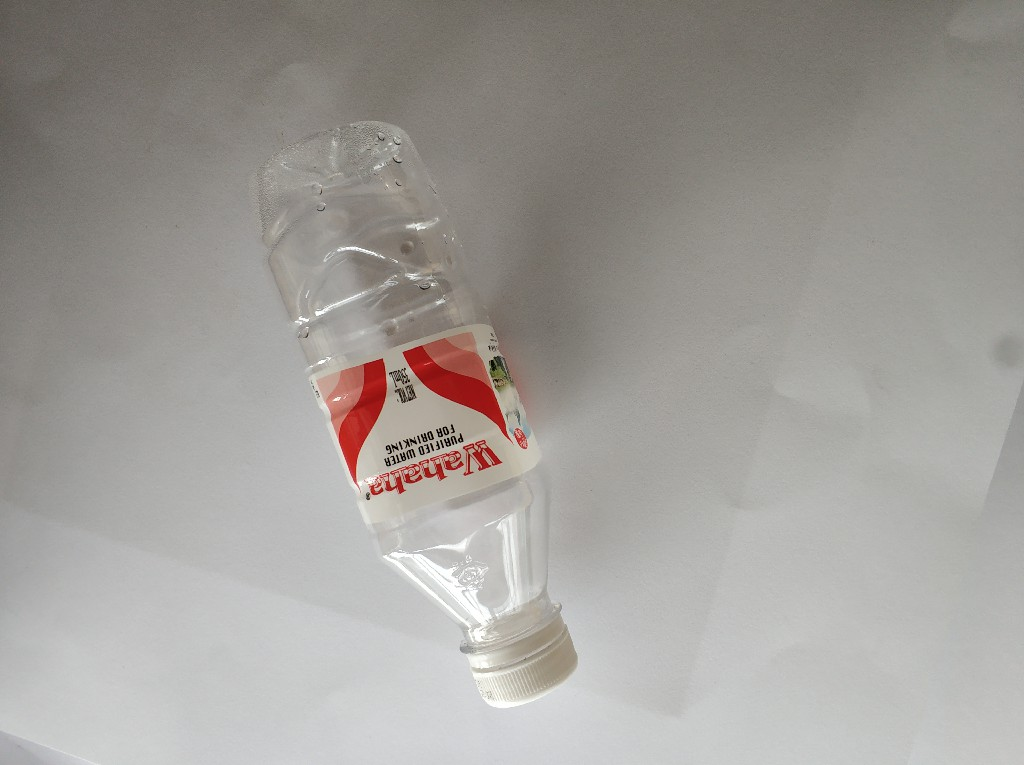bottle: (238, 113, 589, 712)
